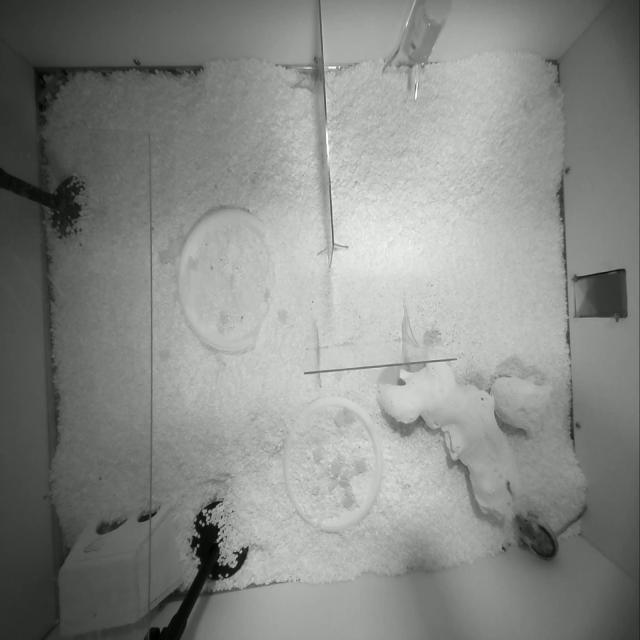adult_front: (515, 505, 586, 559)
